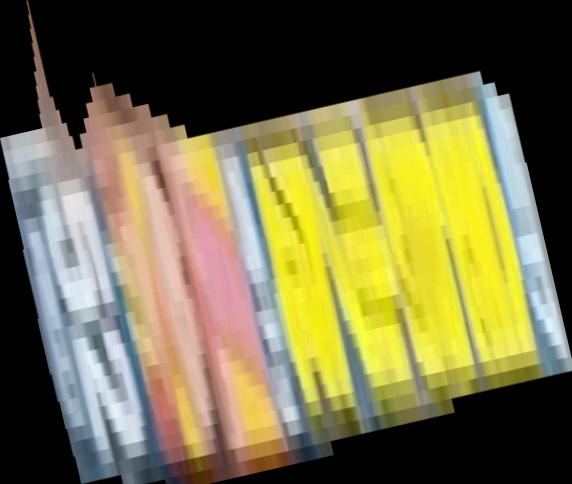flat: (1, 1, 572, 484)
